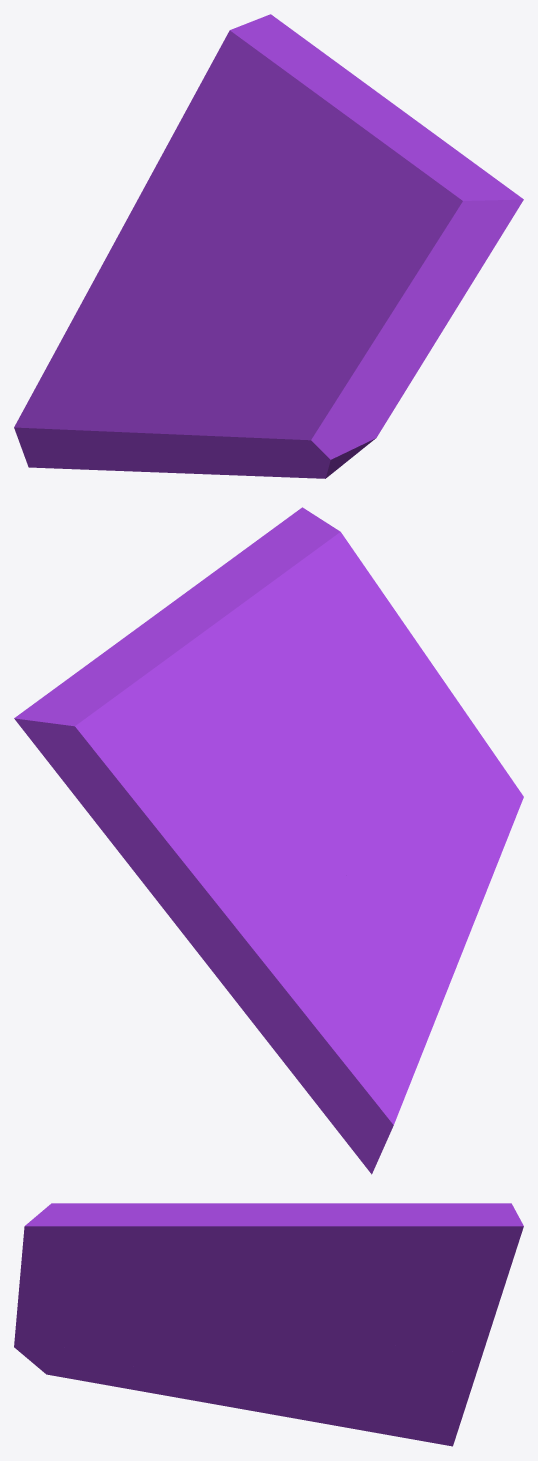
Rendered from Window_114_3_chunks.fbx.
3 views of the same model, one above another, from view 1: azimuth 30°, elevation 25°; view 2: azimuth 150°, elevation 25°; view 3: azimuth 270°, elevation 25° (orthographic). The views are drawn at different scales.
Parts seen in each view (by area): view 1: Window_114_3_5, Window_114_3_6, Window_114_3_9, Window_114_3_2, Window_114_3_12, Window_114_3_3, Window_114_3_10, Window_114_3_11, Window_114_3_7, Window_114_3_1, Window_114_3_8; view 2: Window_114_3_5, Window_114_3_6, Window_114_3_9, Window_114_3_2, Window_114_3_12, Window_114_3_11, Window_114_3_8, Window_114_3_7, Window_114_3_1, Window_114_3_10, Window_114_3_3; view 3: Window_114_3_5, Window_114_3_11, Window_114_3_6, Window_114_3_8, Window_114_3_9, Window_114_3_2, Window_114_3_7, Window_114_3_10, Window_114_3_0, Window_114_3_3, Window_114_3_4.
Boxes of the visible parts, x1,y1,x2,y2 form: Window_114_3_5: [147, 14, 367, 273]; Window_114_3_6: [14, 223, 200, 469]; Window_114_3_9: [355, 151, 523, 344]; Window_114_3_2: [78, 312, 265, 476]; Window_114_3_12: [267, 147, 373, 318]; Window_114_3_3: [239, 393, 393, 478]; Window_114_3_10: [285, 275, 433, 400]; Window_114_3_11: [311, 85, 457, 197]; Window_114_3_7: [187, 207, 293, 356]; Window_114_3_1: [254, 304, 385, 401]; Window_114_3_8: [125, 182, 148, 228]; Window_114_3_5: [14, 637, 311, 895]; Window_114_3_6: [224, 855, 421, 1174]; Window_114_3_9: [228, 507, 434, 682]; Window_114_3_2: [372, 810, 492, 1053]; Window_114_3_12: [225, 631, 389, 791]; Window_114_3_11: [125, 562, 301, 680]; Window_114_3_8: [42, 754, 244, 985]; Window_114_3_7: [280, 724, 390, 902]; Window_114_3_1: [368, 724, 488, 832]; Window_114_3_10: [373, 668, 473, 777]; Window_114_3_3: [467, 746, 523, 875]; Window_114_3_5: [281, 1203, 523, 1307]; Window_114_3_11: [134, 1203, 332, 1309]; Window_114_3_6: [284, 1339, 482, 1446]; Window_114_3_8: [337, 1243, 518, 1355]; Window_114_3_9: [18, 1203, 178, 1299]; Window_114_3_2: [133, 1339, 365, 1430]; Window_114_3_7: [230, 1268, 346, 1376]; Window_114_3_10: [15, 1286, 208, 1326]; Window_114_3_0: [15, 1309, 231, 1341]; Window_114_3_3: [14, 1333, 137, 1390]; Window_114_3_4: [15, 1332, 187, 1366].
Bounding box in the file's own units: 549 × 638 × 833.
